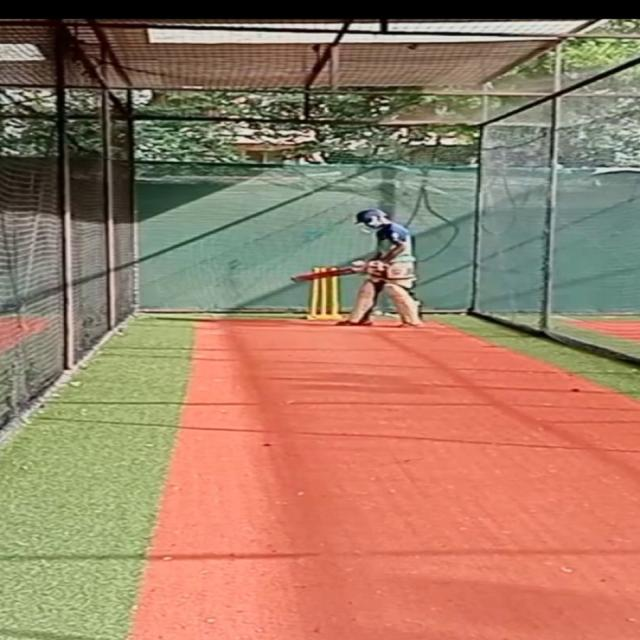stump: (307, 266, 339, 320)
